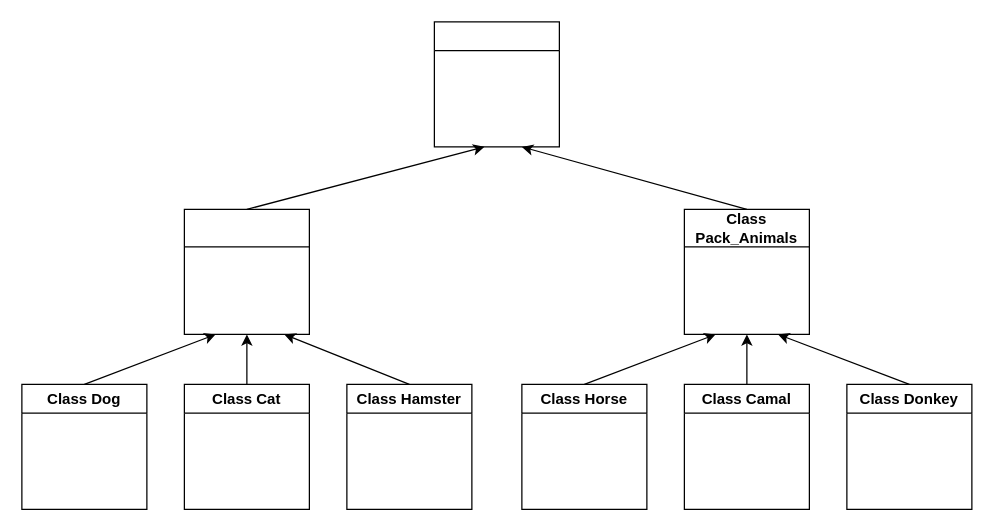
Some shapes in this 994 by 531 pixel diagram are drawn without their labels. The shapes that lost their labels are listed below. From the top down, each one's box as (x1, y1, x2, y2) in pixels, then its label:
(433, 21, 559, 147): Class Animals
(183, 208, 309, 334): Class Home_Animals
